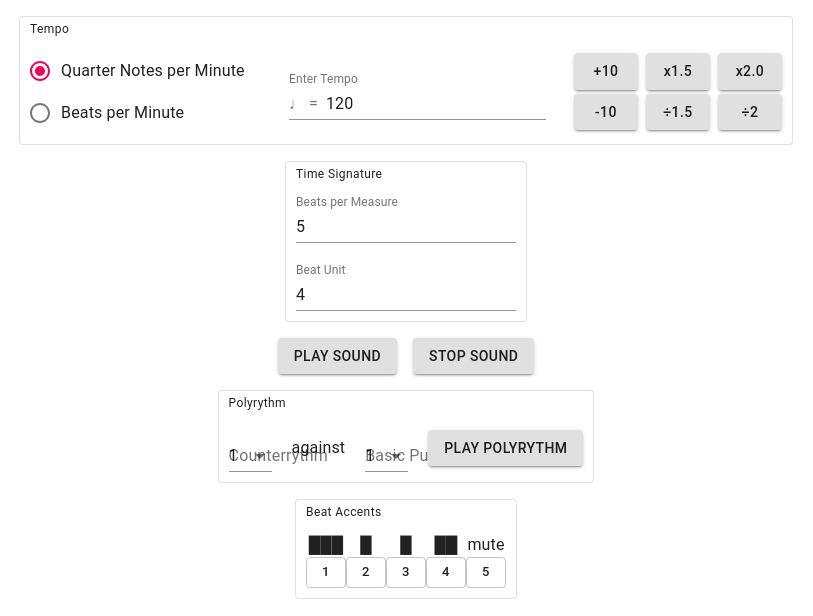
Test case: Metronome › should display Tempostyle change by User
Click the radio button labelled "Beats per Minute" at (106, 113), box [28,101,184,125]
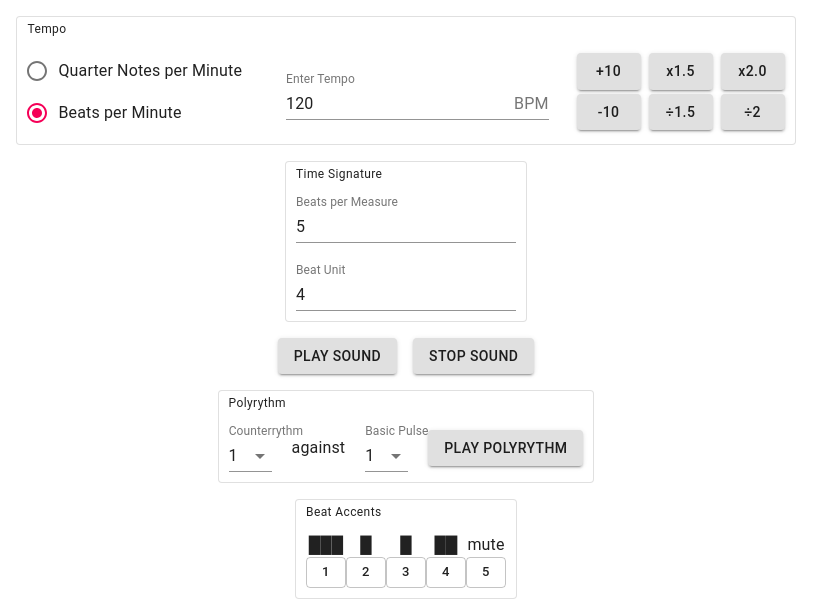
Result: the radio button labelled "Beats per Minute" is checked at [25,101,182,125]
Result: the radio button labelled "Quarter Notes per Minute" is not checked at [25,59,242,83]
